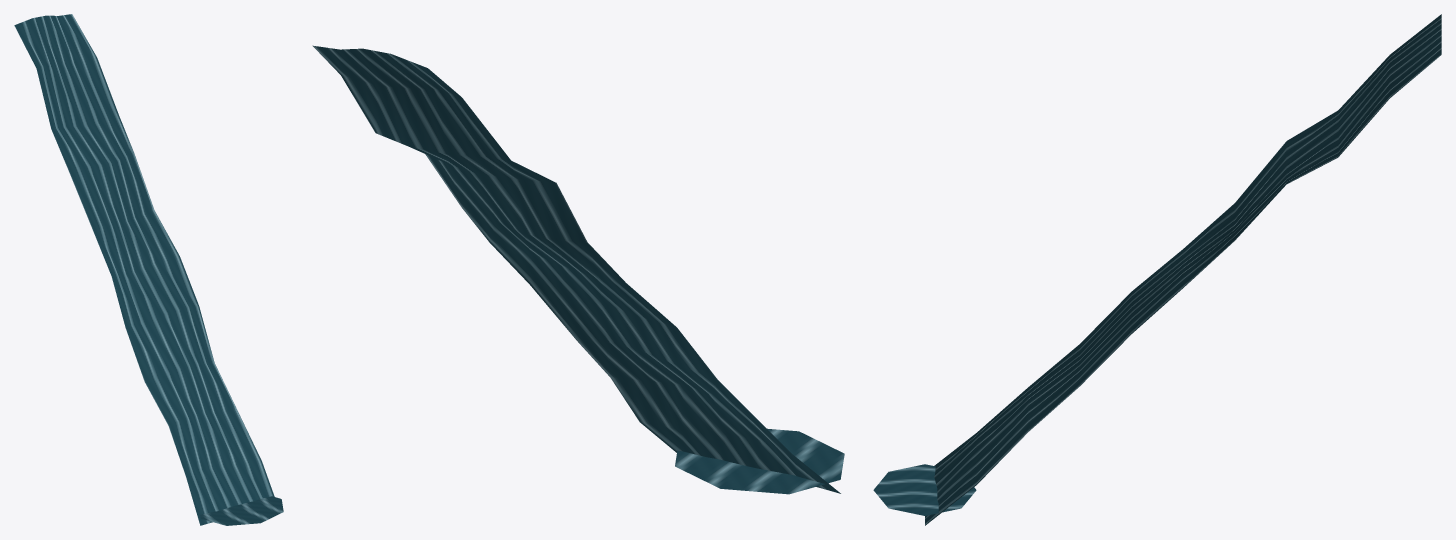
The model's file is cascade-narrow-lod1.glb.
3 renders of one model, left to right at view 1: azimuth 30°, elevation 25°; view 2: azimuth 150°, elevation 25°; view 3: azimuth 270°, elevation 25°, orthographic. The views are drawn at different scales.
Bounding box in the file's own units: 0.2391 × 1.01 × 1.1.
1 material, 1 textured.
